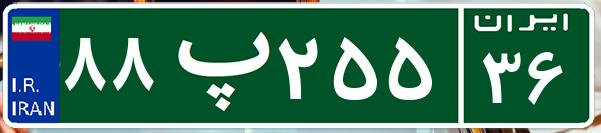2: (273, 28, 330, 110)
3: (475, 38, 525, 113)
5: (385, 28, 445, 110), (330, 28, 385, 110)
6: (525, 38, 570, 115)
8: (57, 26, 110, 107), (110, 28, 158, 105)
پ: (158, 15, 273, 115)
